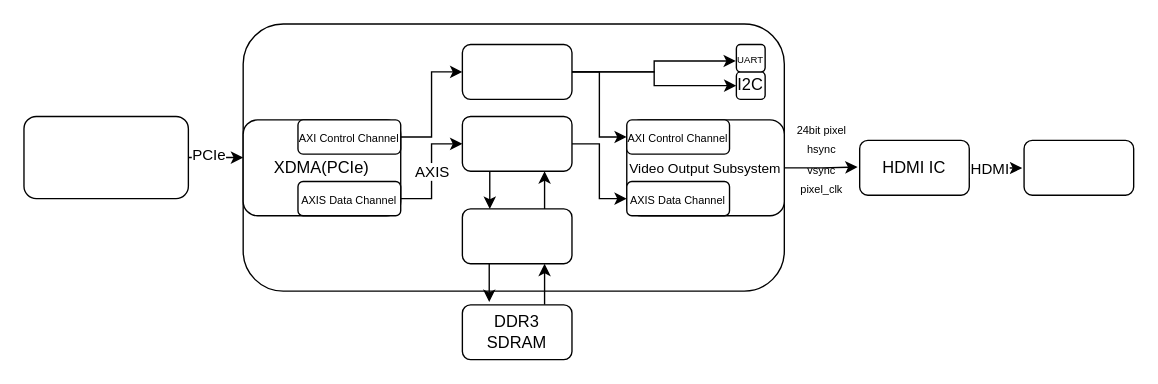
The diagram is 1158 pixels wide and 384 high, and some of its shapes have lost their labels. Here are the shapes that lost their labels. From the top down, the centre of each, then its label:
point (516, 71): Interconnect
point (105, 157): Host Linux PC
point (516, 143): VDMA
point (1078, 167): Monitor
point (516, 236): MIG
